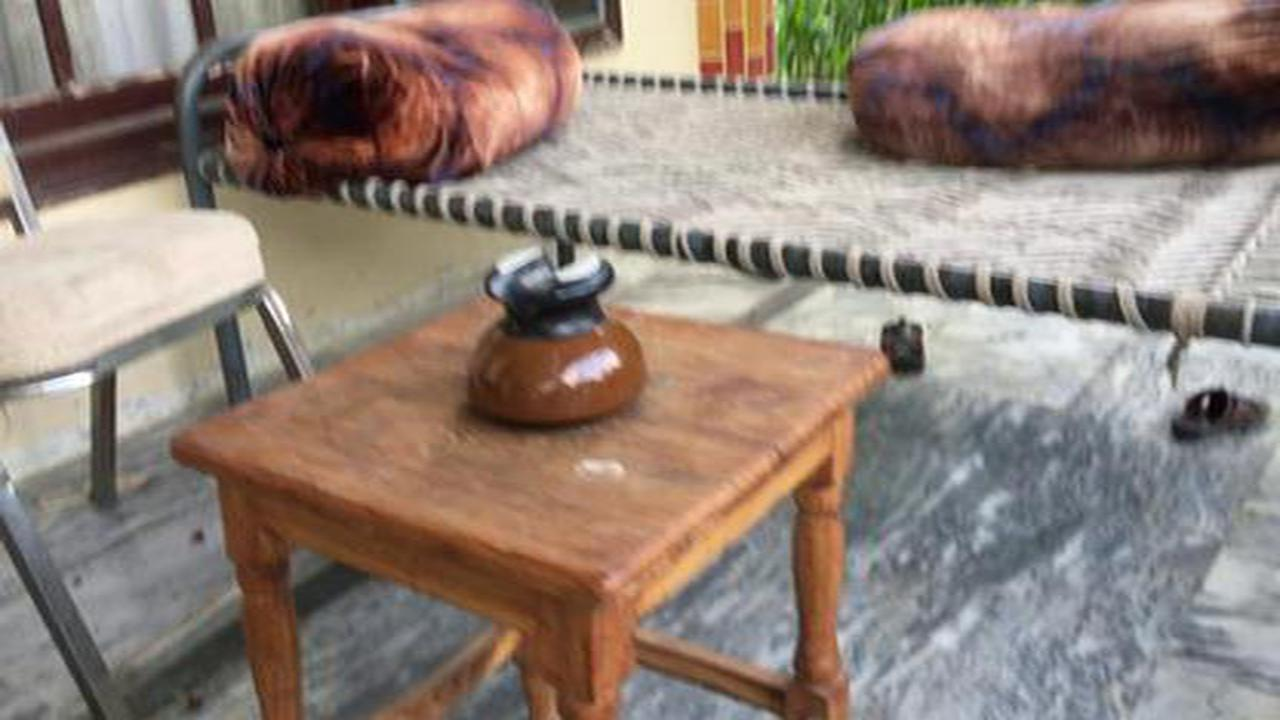insulator_pin: (450, 222, 665, 437)
